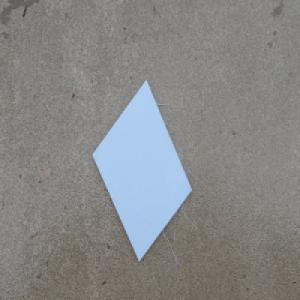PaintChip: (91, 76, 192, 263)
